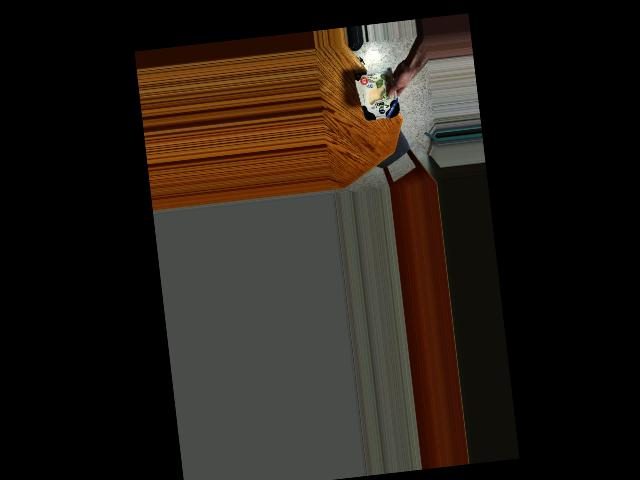cheese: (358, 57, 404, 127)
